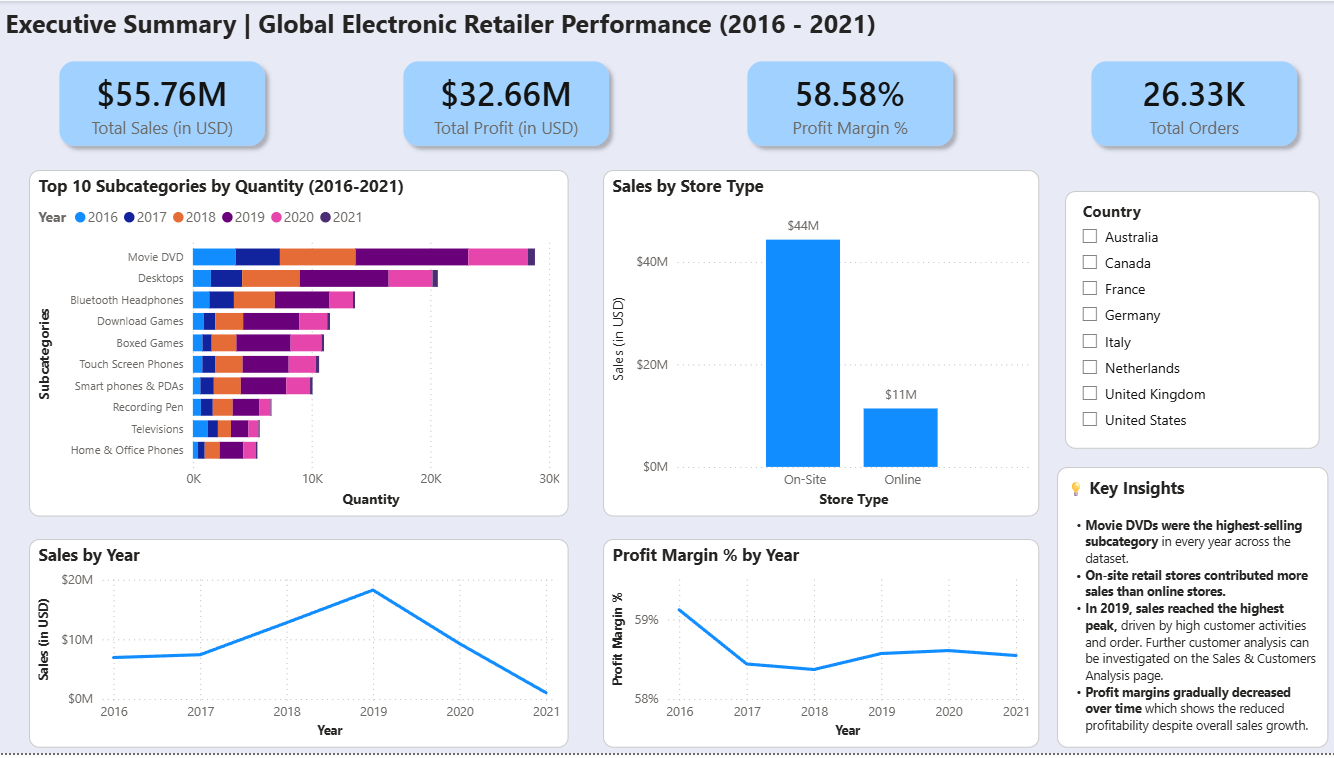

The page's visual inventory and layout, read from the dashboard file:
{"tool":"powerbi","page":{"name":"Executive Summary","canvas":[1280,720],"ordinal":0},"visuals":[{"type":"lineChart","title":"Sales by Year","fields":{"Category":["sales_cleaned.Order Date.Variation.Date Hierarchy.Year"],"Y":["Sum(sales_cleaned.Sales)"]},"box":[27.8,515.4,517.4,200.2],"z":0},{"type":"barChart","title":"Top 10 Subcategories by Quantity (2016-2021)","fields":{"Category":["Products.Subcategory"],"Y":["Sum(sales_cleaned.Quantity)"],"Series":["sales_cleaned.Order Date.Variation.Date Hierarchy.Year"]},"box":[27.8,161.9,517.4,332.5],"z":1000},{"type":"slicer","title":" Countries","fields":{"Values":["customers_cleaned.Country"]},"box":[1020.4,182,244.3,247.2],"z":2000},{"type":"cardVisual","fields":{"Data":["sales_cleaned.Total Sales"]},"box":[27.8,28.5,255.8,139.9],"z":3000},{"type":"columnChart","title":"Sales by Store Type","fields":{"Y":["Sum(sales_cleaned.Sales)"],"Category":["sales_cleaned.Store Type"]},"box":[577.7,161.9,417.7,332.5],"z":4000},{"type":"lineChart","fields":{"Category":["sales_cleaned.Order Date.Variation.Date Hierarchy.Year"],"Y":["sales_cleaned.Profit Margin %"]},"box":[577.7,515.4,417.7,200.2],"z":5000},{"type":"textbox","box":[1012.7,446.5,260,269.2],"z":6000},{"type":"textbox","box":[0,0,1280,43.8],"z":7000},{"type":"cardVisual","fields":{"Data":["sales_cleaned.Total Profit (in USD)"]},"box":[357.4,28.5,255.8,139.9],"z":8000},{"type":"cardVisual","fields":{"Data":["sales_cleaned.Total Orders"]},"box":[1016.5,28.5,255.8,139.9],"z":9000},{"type":"cardVisual","fields":{"Data":["sales_cleaned.Profit Margin %"]},"box":[686.9,28.5,255.8,139.9],"z":10000}]}

Visuals, with their boxes in screenshot pixels (x1, y1, x2, y2), scaled from the page's 1280x720 canvas onto the 1334x758 screenshot:
"Sales by Year" lineChart: (29,543,568,753)
"Top 10 Subcategories by Quantity (2016-2021)" barChart: (29,170,568,520)
" Countries" slicer: (1063,192,1318,452)
cardVisual - sales_cleaned.Total Sales: (29,30,296,177)
"Sales by Store Type" columnChart: (602,170,1037,520)
lineChart - sales_cleaned.Order Date.Variation.Date Hierarchy.Year x sales_cleaned.Profit Margin %: (602,543,1037,753)
textbox: (1055,470,1326,753)
textbox: (0,0,1333,46)
cardVisual - sales_cleaned.Total Profit (in USD): (372,30,639,177)
cardVisual - sales_cleaned.Total Orders: (1059,30,1326,177)
cardVisual - sales_cleaned.Profit Margin %: (716,30,982,177)
